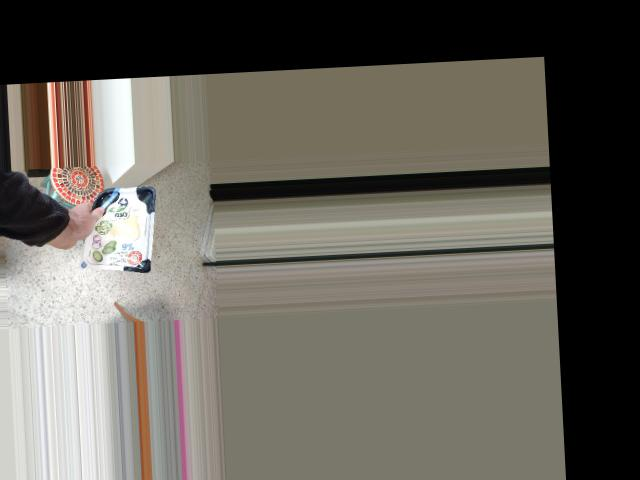cheese: (65, 198, 135, 275)
